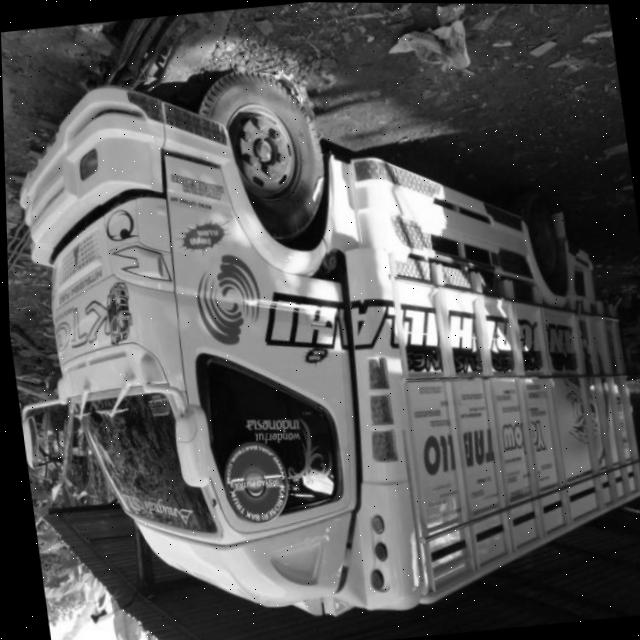truck: (2, 52, 412, 640)
